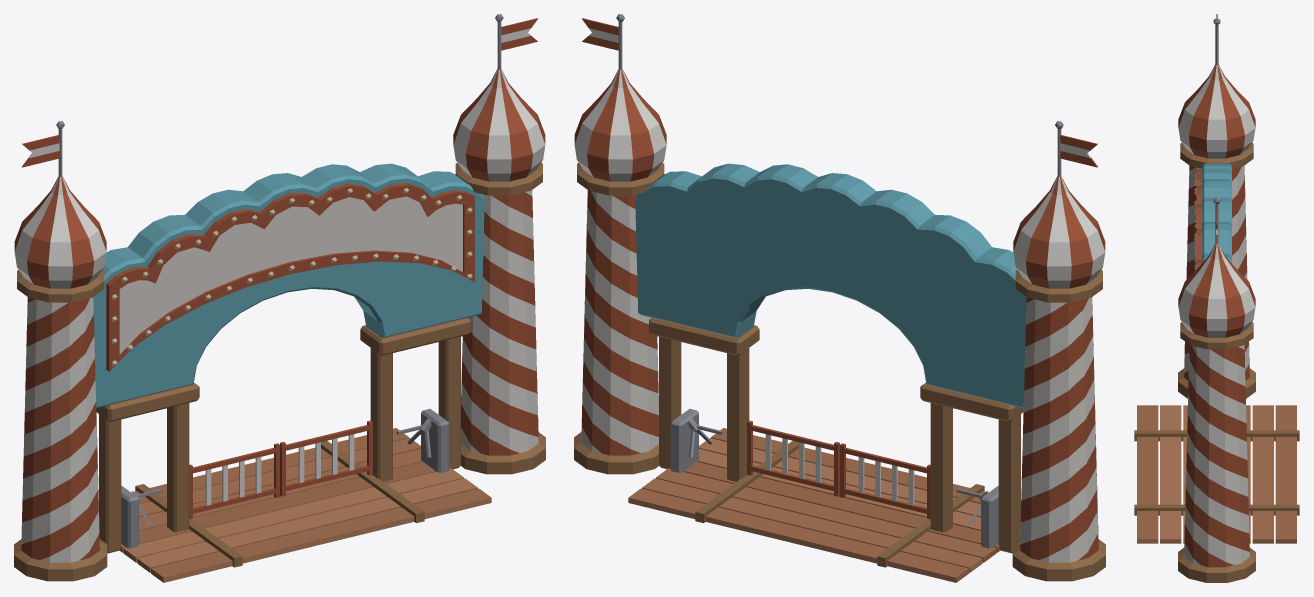
The model's file is amusement-park-entrance-arch-687549.glb.
The picture shows the model from 3 angles, left to right: view 1: azimuth 30°, elevation 25°; view 2: azimuth 150°, elevation 25°; view 3: azimuth 270°, elevation 25°; orthographic projection. The views are drawn at different scales.
Visible parts, largest first — view 1: gate, gate-r-leaf, gate-l-leaf; view 2: gate, gate-r-leaf, gate-l-leaf; view 3: gate.
Part boxes in pixels (left/top/right/bottom): gate: left=14, top=14, right=545, bottom=582; gate-r-leaf: left=280, top=420, right=372, bottom=496; gate-l-leaf: left=189, top=443, right=279, bottom=519; gate: left=574, top=14, right=1105, bottom=582; gate-r-leaf: left=747, top=420, right=839, bottom=496; gate-l-leaf: left=840, top=443, right=930, bottom=519; gate: left=1134, top=14, right=1299, bottom=582.
Bounding box in the file's own units: 9.95 × 8.05 × 3.28.
